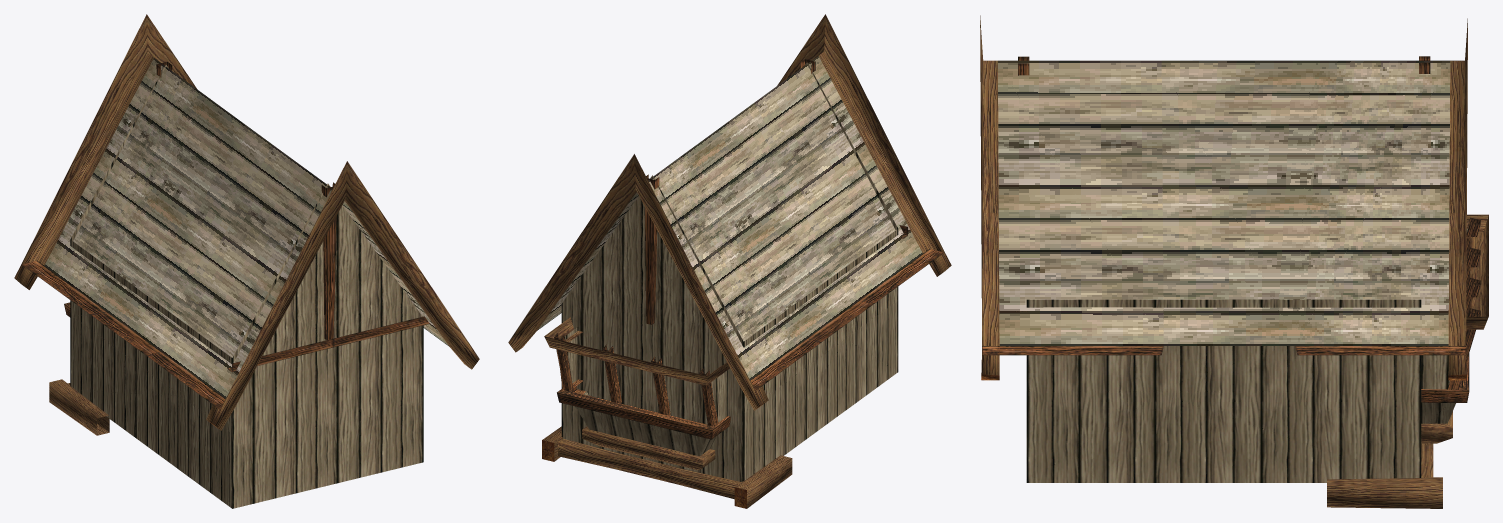
The model's file is LAKETOWN_EXTERIOR_PS_LT_TOPHOUSE7464__GX.fbx.
3 renders of one model, left to right at view 1: azimuth 30°, elevation 25°; view 2: azimuth 150°, elevation 25°; view 3: azimuth 270°, elevation 25°, orthographic. The views are drawn at different scales.
Parts seen in each view (by area): view 1: LAKETOWN_EXTERIOR_PS_LT_TOPHOUSE7464__GX; view 2: LAKETOWN_EXTERIOR_PS_LT_TOPHOUSE7464__GX; view 3: LAKETOWN_EXTERIOR_PS_LT_TOPHOUSE7464__GX.
Part boxes in pixels (x1,y1,x2,y2): LAKETOWN_EXTERIOR_PS_LT_TOPHOUSE7464__GX: [14, 14, 479, 508]; LAKETOWN_EXTERIOR_PS_LT_TOPHOUSE7464__GX: [508, 14, 951, 508]; LAKETOWN_EXTERIOR_PS_LT_TOPHOUSE7464__GX: [980, 15, 1488, 508].
Size of the model in its own units: 62738 by 79776 by 85318.
6 materials, 6 textured.
